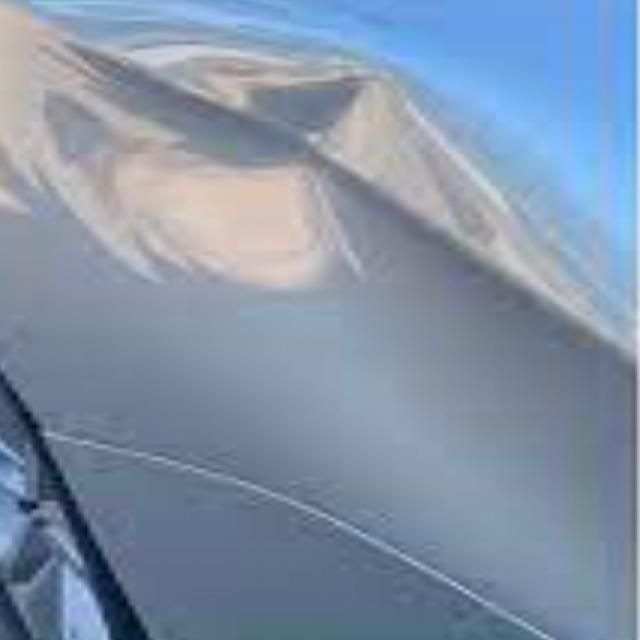dents: (196, 62, 459, 169)
